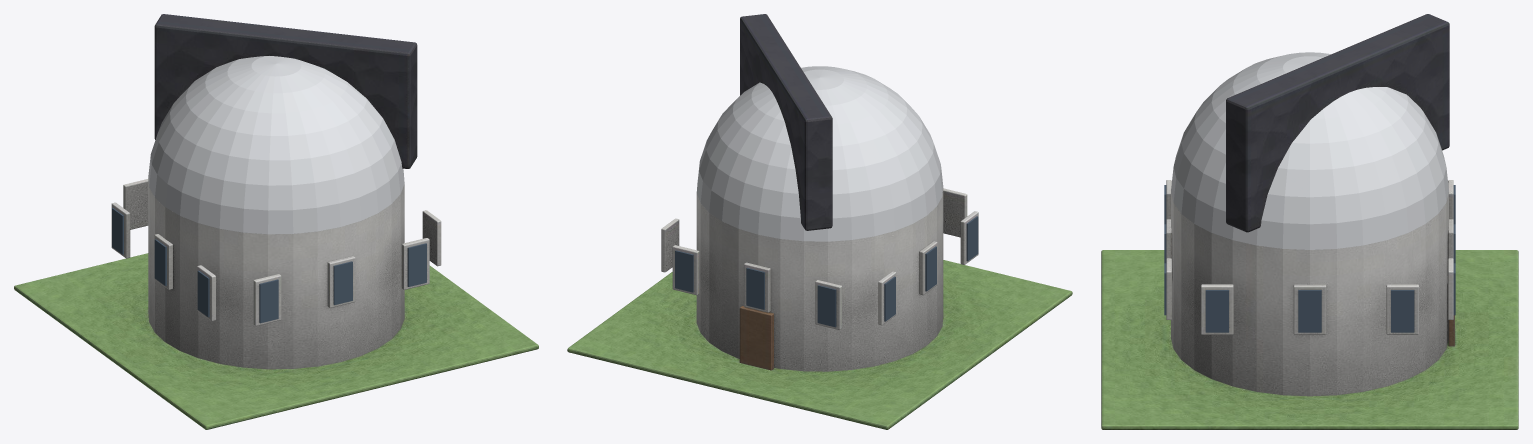
File: observatorium.glb
The picture shows the model from 3 angles, left to right: view 1: azimuth 30°, elevation 25°; view 2: azimuth 150°, elevation 25°; view 3: azimuth 270°, elevation 25°; orthographic projection. The views are drawn at different scales.
Parts seen in each view (by area): view 1: observatorium, observatorium_details; view 2: observatorium, observatorium_details; view 3: observatorium, observatorium_details.
Boxes of the visible parts, x1=… form: observatorium: x1=14, y1=14, x2=538, y2=429; observatorium_details: x1=112, y1=56, x2=426, y2=323; observatorium: x1=567, y1=14, x2=1072, y2=429; observatorium_details: x1=675, y1=66, x2=978, y2=327; observatorium: x1=1101, y1=14, x2=1518, y2=429; observatorium_details: x1=1164, y1=52, x2=1455, y2=332.
Bounding box in the file's own units: 0.9 × 0.7 × 0.9.
Materials: 3 (1 with a texture image).
